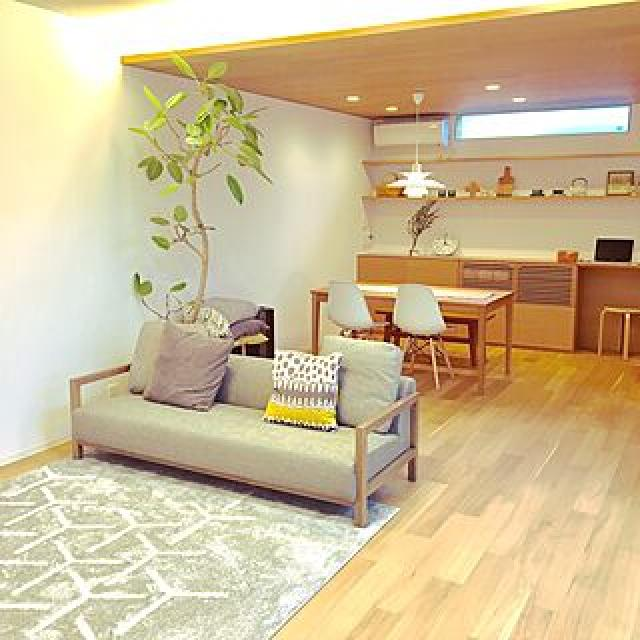natural chair: (394, 284, 447, 379)
natural desk: (302, 270, 514, 389)
natural sofa: (67, 331, 438, 522)
